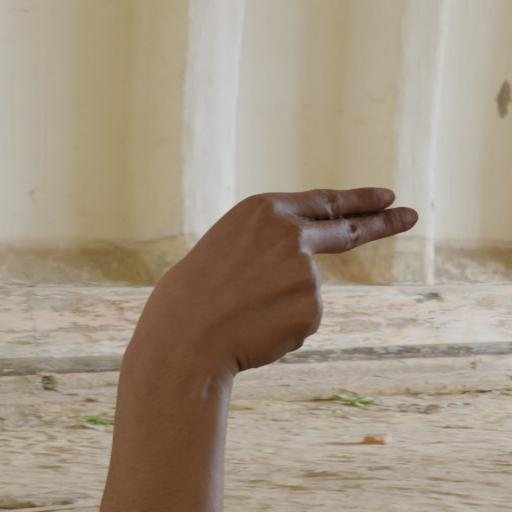H: (121, 180, 426, 392)
